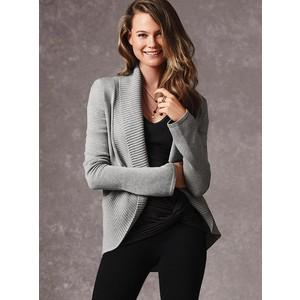S_cardigan sweater: (78, 67, 219, 252)
